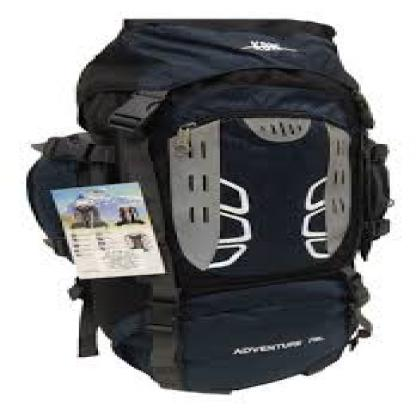morral: (14, 3, 397, 394)
